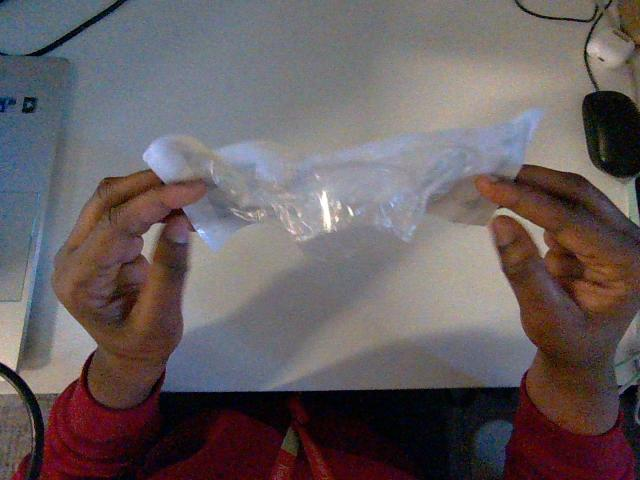gallipot: (144, 110, 542, 248)
